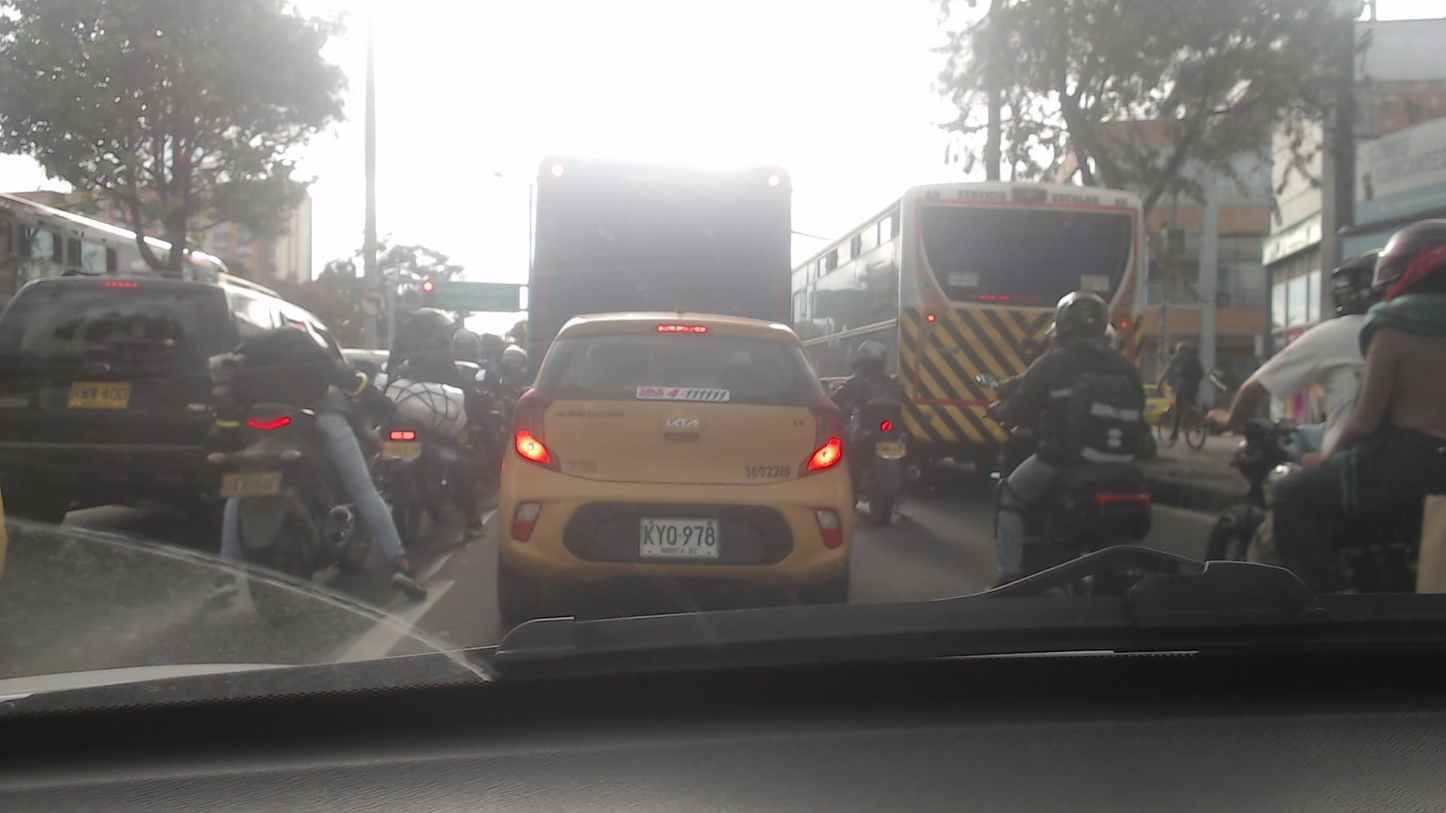bus: (787, 182, 1151, 491)
car: (505, 310, 862, 612), (0, 274, 328, 583)
motorcycle: (200, 417, 389, 597), (981, 449, 1150, 601), (375, 423, 482, 535), (839, 403, 919, 521)
person: (230, 324, 410, 596), (1214, 262, 1387, 459), (988, 289, 1164, 482), (1350, 223, 1446, 539), (377, 302, 474, 503), (835, 339, 916, 456)
truck: (520, 149, 799, 335)
